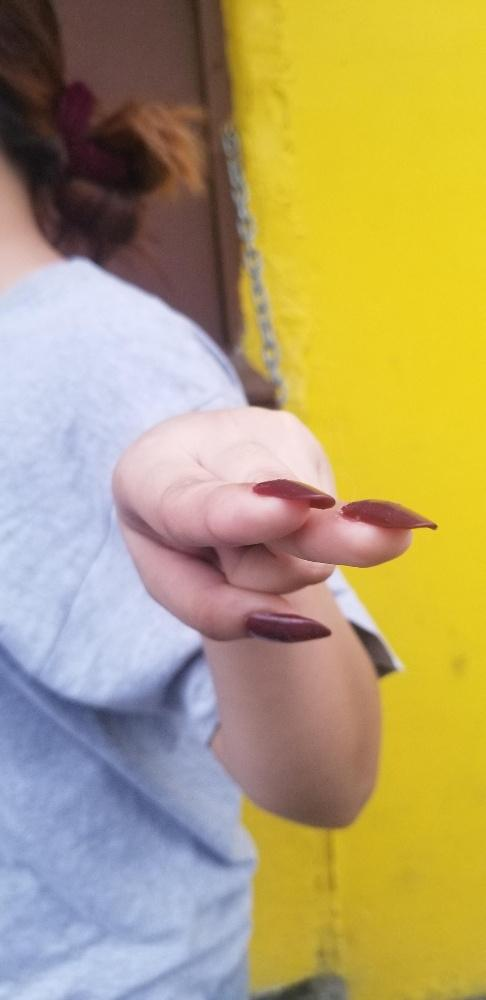n: (113, 401, 433, 645)
